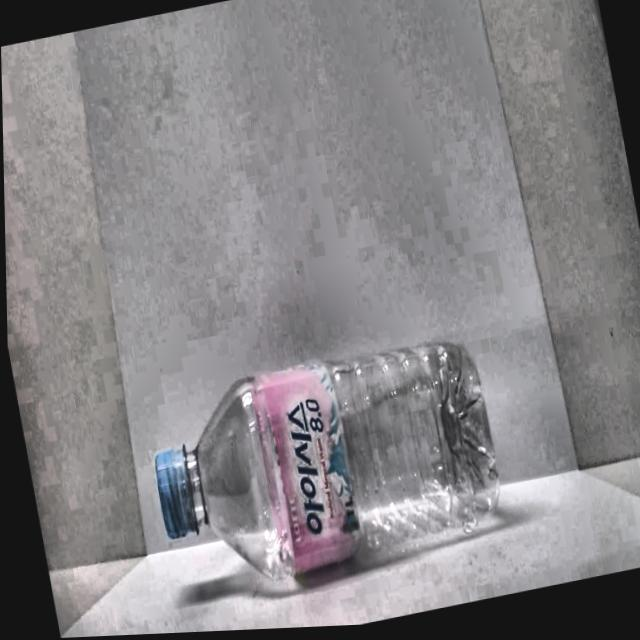Bottles: (129, 308, 551, 630)
